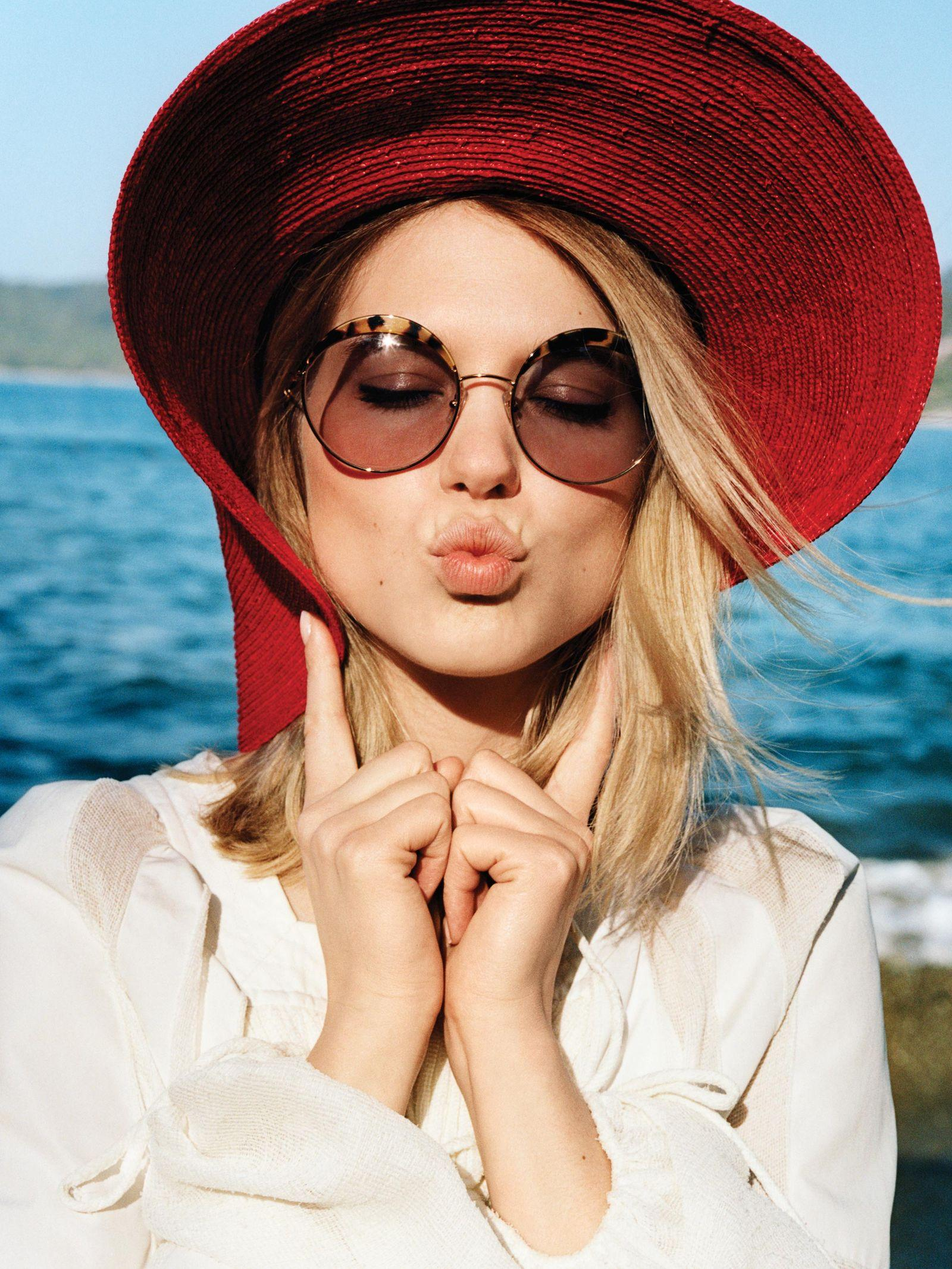cap: (89, 0, 951, 752)
sunglasses: (265, 307, 672, 503)
